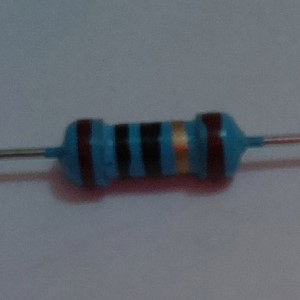black_band: (139, 120, 164, 180), (112, 121, 133, 183)
brown_band: (200, 109, 229, 183), (75, 117, 99, 188)
gold_band: (170, 118, 191, 178)
